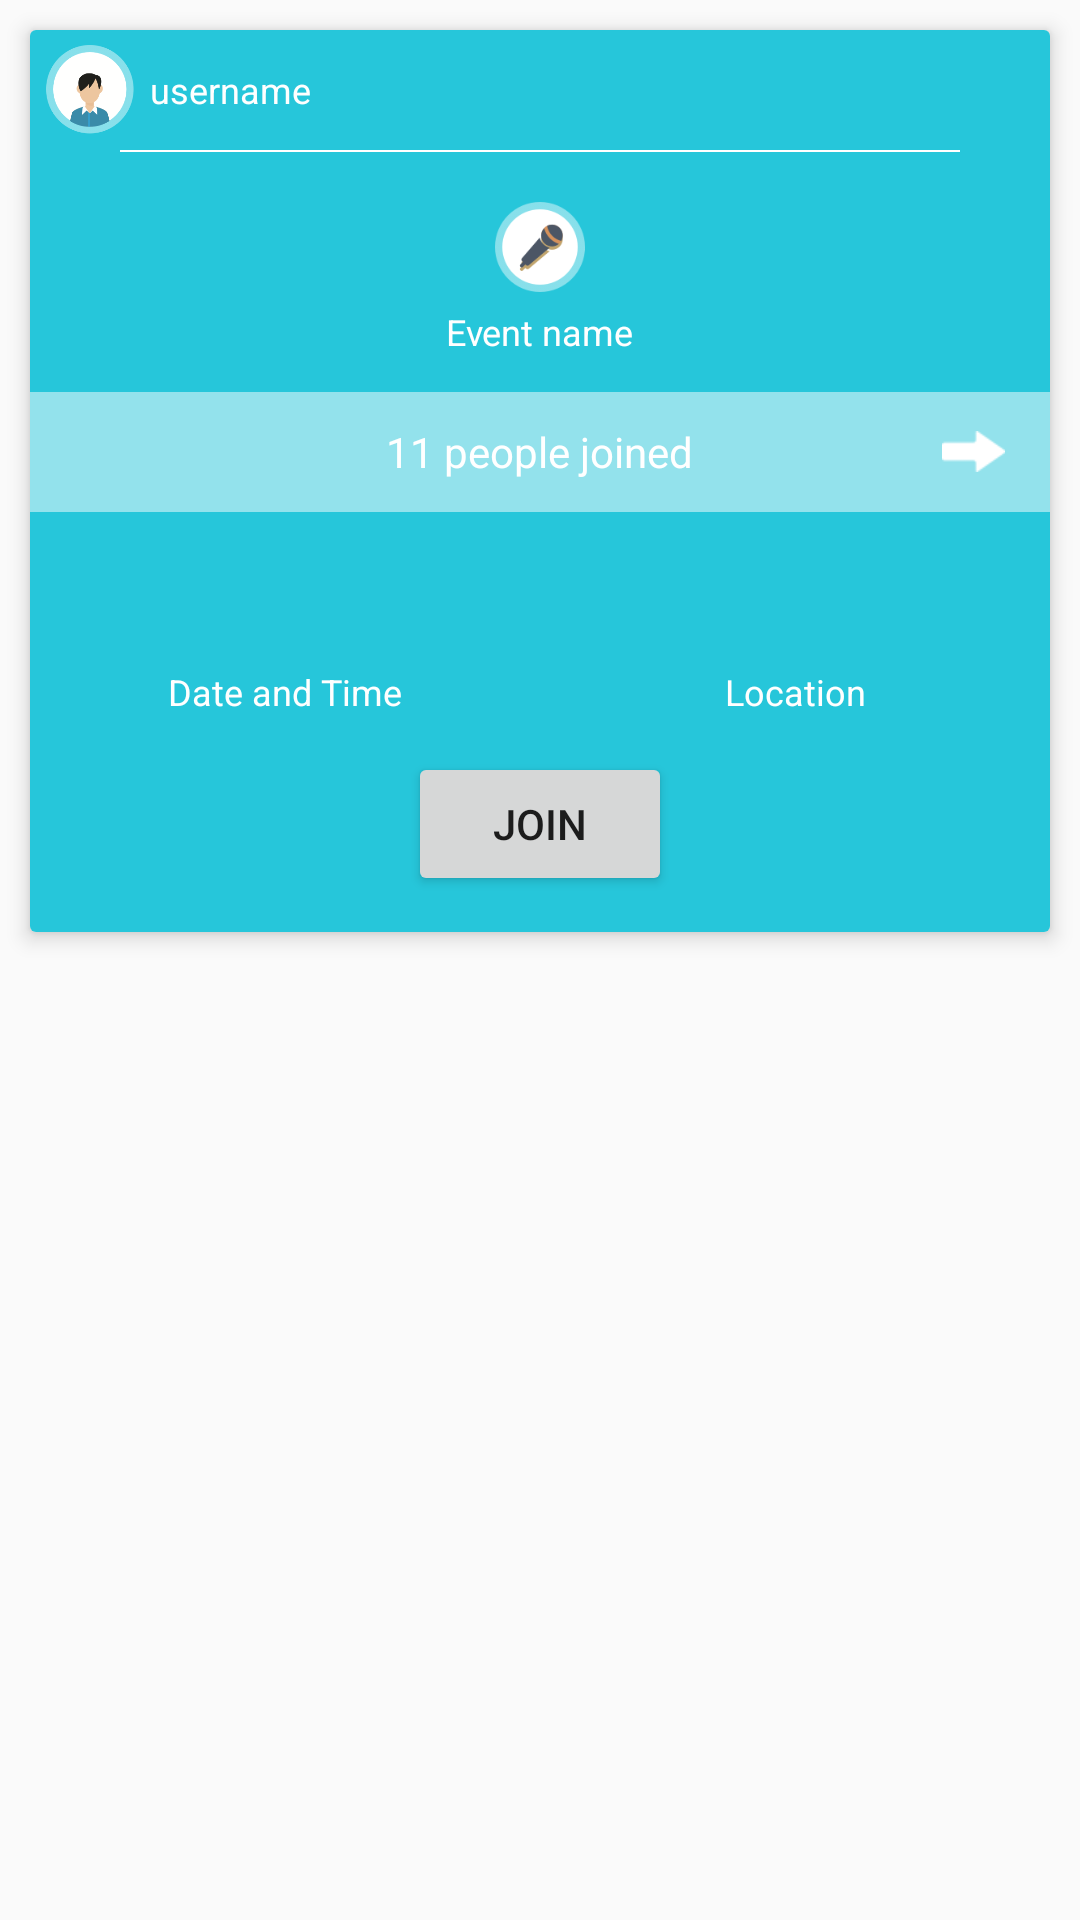

Named icons in this screenshot (1080*1920) and their centers, point (x, y):
right arrow: point (973, 451)
sidebar account: point (90, 89)
